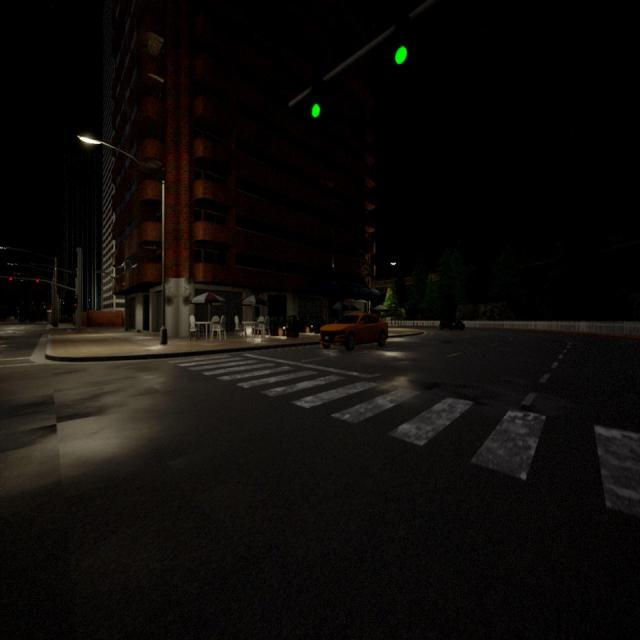Vehicle: (318, 313, 388, 351), (439, 316, 465, 332)
traffic_light: (393, 20, 408, 66), (310, 82, 321, 119), (74, 295, 78, 303), (36, 278, 39, 284), (74, 303, 77, 309), (8, 277, 12, 281), (42, 302, 44, 306), (22, 302, 24, 305), (32, 302, 33, 305)
